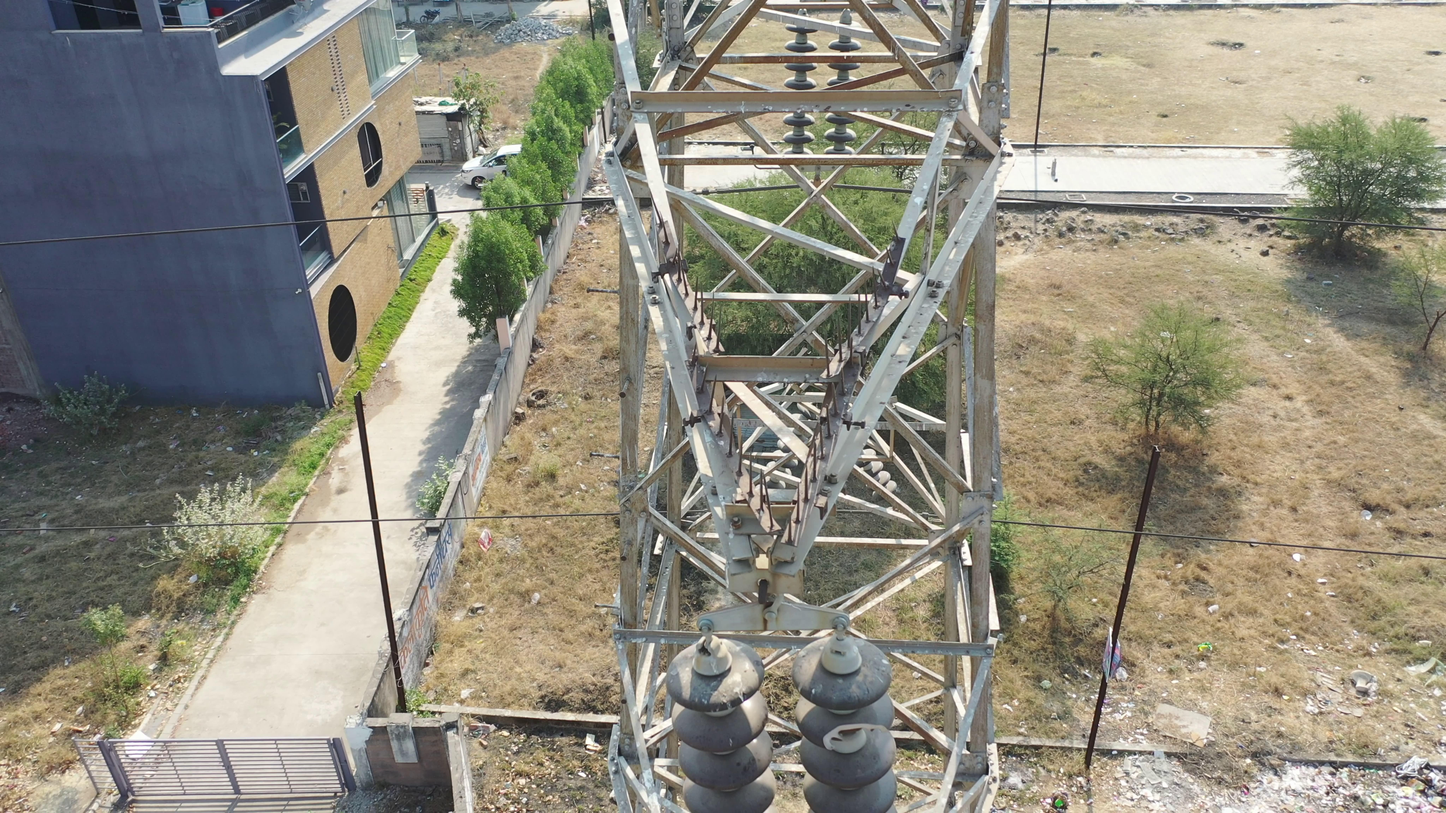broken_insulator: (795, 703, 896, 752)
